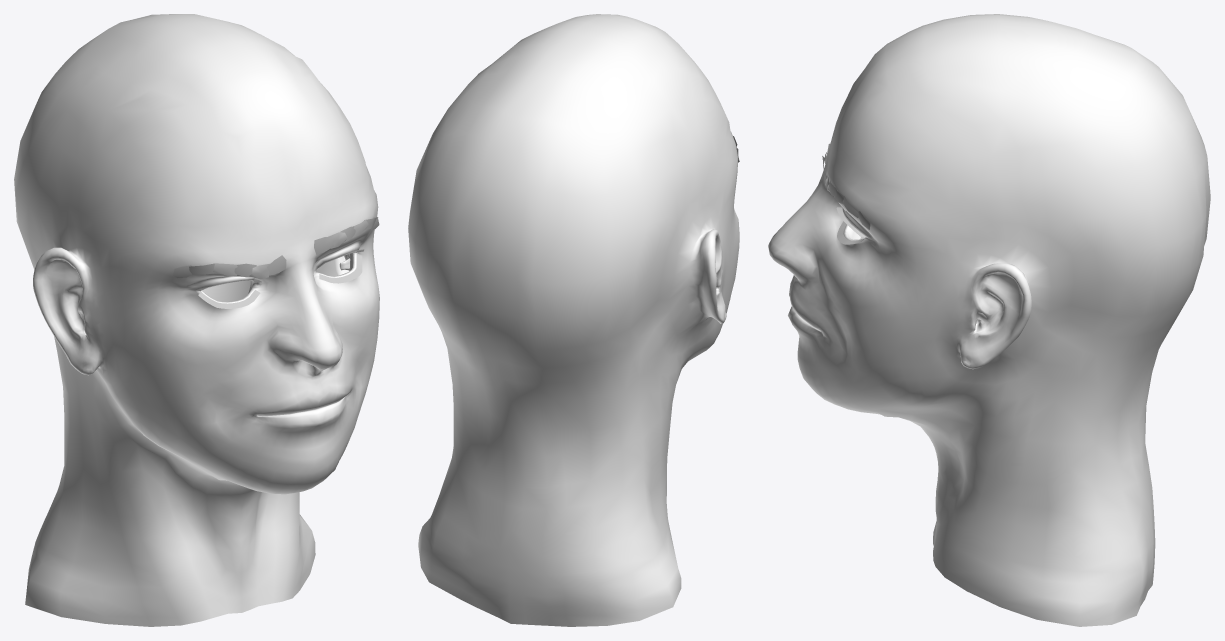
File: noseSneerRight.obj
The picture shows the model from 3 angles, left to right: view 1: azimuth 30°, elevation 25°; view 2: azimuth 150°, elevation 25°; view 3: azimuth 270°, elevation 25°; orthographic projection. The views are drawn at different scales.
Visible parts, largest first — view 1: FaceMesh_Plane.003; view 2: FaceMesh_Plane.003; view 3: FaceMesh_Plane.003.
Boxes of the visible parts, x1,y1,x2,y2 form: FaceMesh_Plane.003: (14, 14, 379, 626); FaceMesh_Plane.003: (408, 14, 739, 626); FaceMesh_Plane.003: (768, 14, 1210, 626).
Bounding box in the file's own units: 1.54 × 2.71 × 1.94.
Materials: 5 (1 with a texture image).
